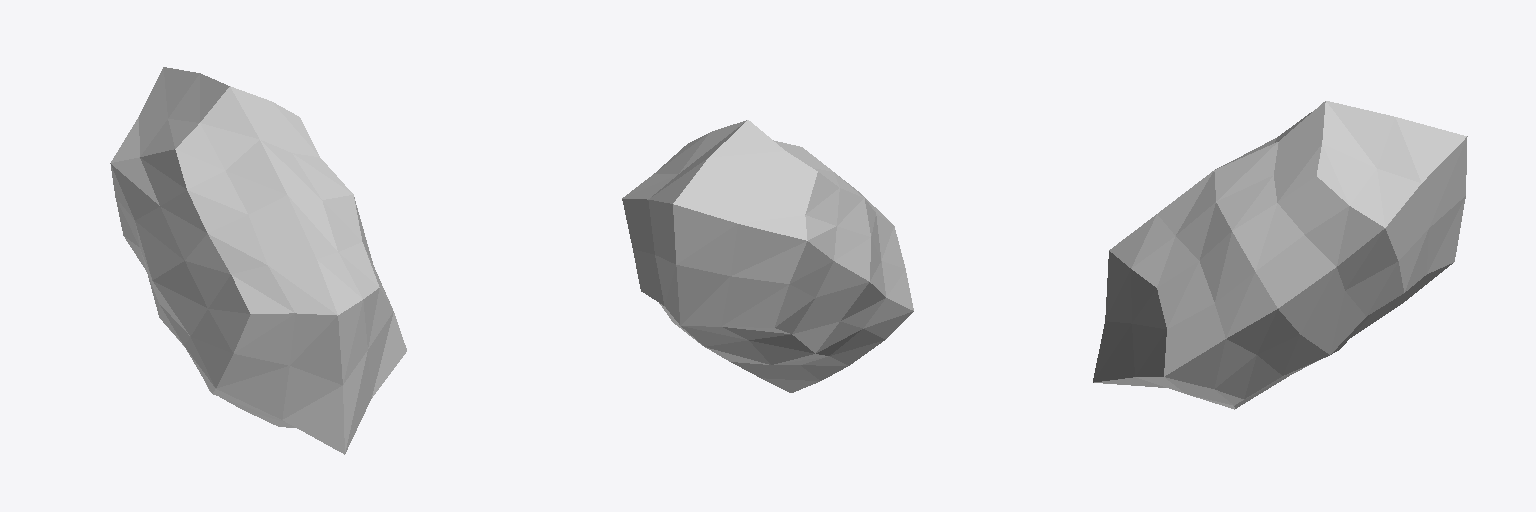
File: LowerHand.obj
The picture shows the model from 3 angles: view 1: azimuth 30°, elevation 25°; view 2: azimuth 150°, elevation 25°; view 3: azimuth 270°, elevation 25°; orthographic projection.
Parts seen in each view (by area): view 1: Cube.008_Cube.010; view 2: Cube.008_Cube.010; view 3: Cube.008_Cube.010.
Boxes of the visible parts, <box> form: Cube.008_Cube.010: <box>110,67,406,454</box>; Cube.008_Cube.010: <box>622,120,913,392</box>; Cube.008_Cube.010: <box>1093,101,1467,409</box>.
Size of the model in its own units: 0.8267 by 1.18 by 1.31.